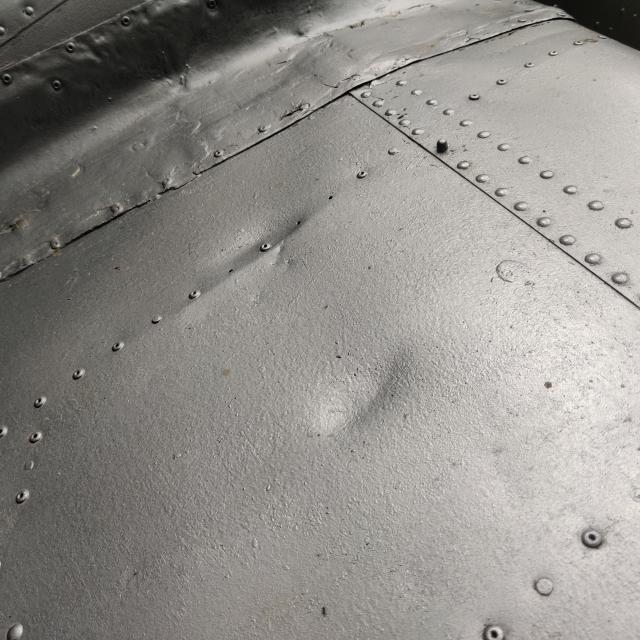dent: (269, 307, 456, 495)
